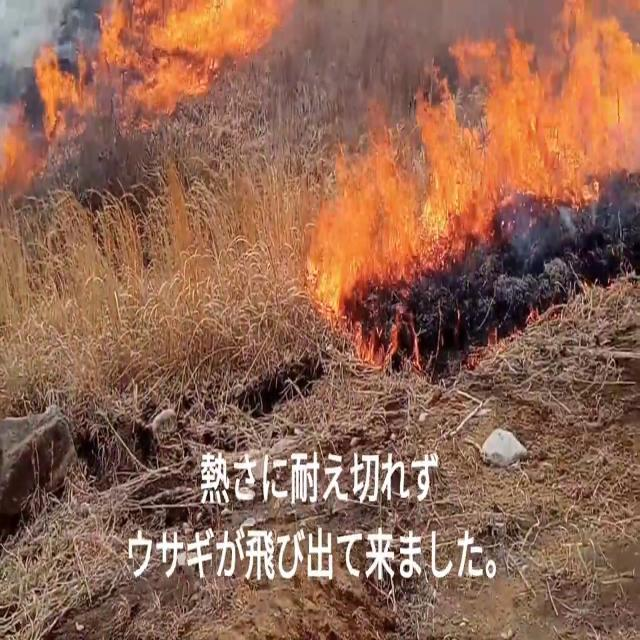Fire: (305, 0, 640, 328), (28, 0, 290, 129), (29, 29, 95, 147)
